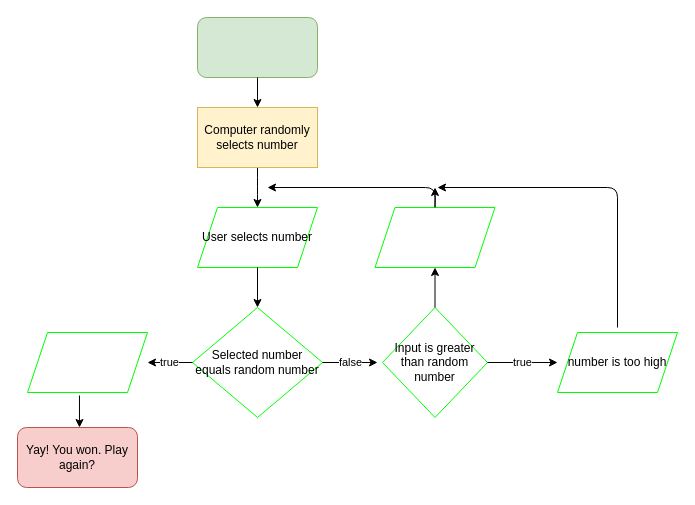
This 695x505 diagram has some shape labels left out. The shapes that lost their labels are listed below. From the top down, each one's centre as x and y in pixels, then its label:
At point 257,47: "Start".
At point 434,237: "number is too low".
At point 87,362: "Correct".
